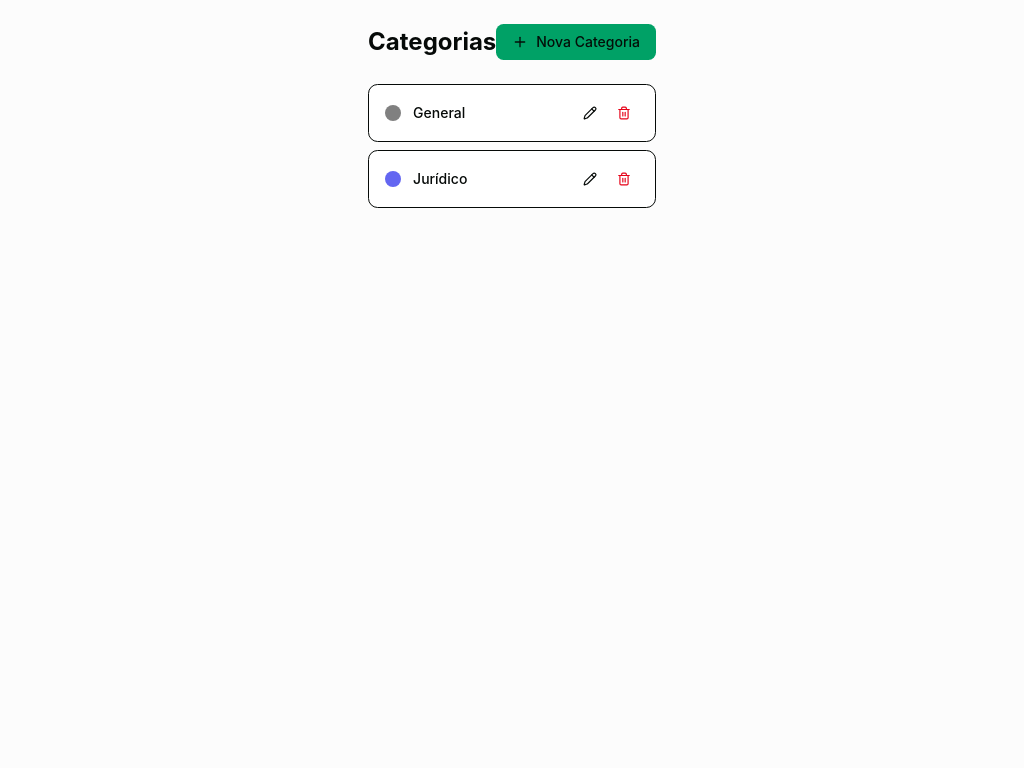
CategoriesPage › shows fallback translation when delete error has no detail
The image size is (1024, 768).
Click the button with class "lucide-trash-2" at (624, 113), box [609,97,639,129]
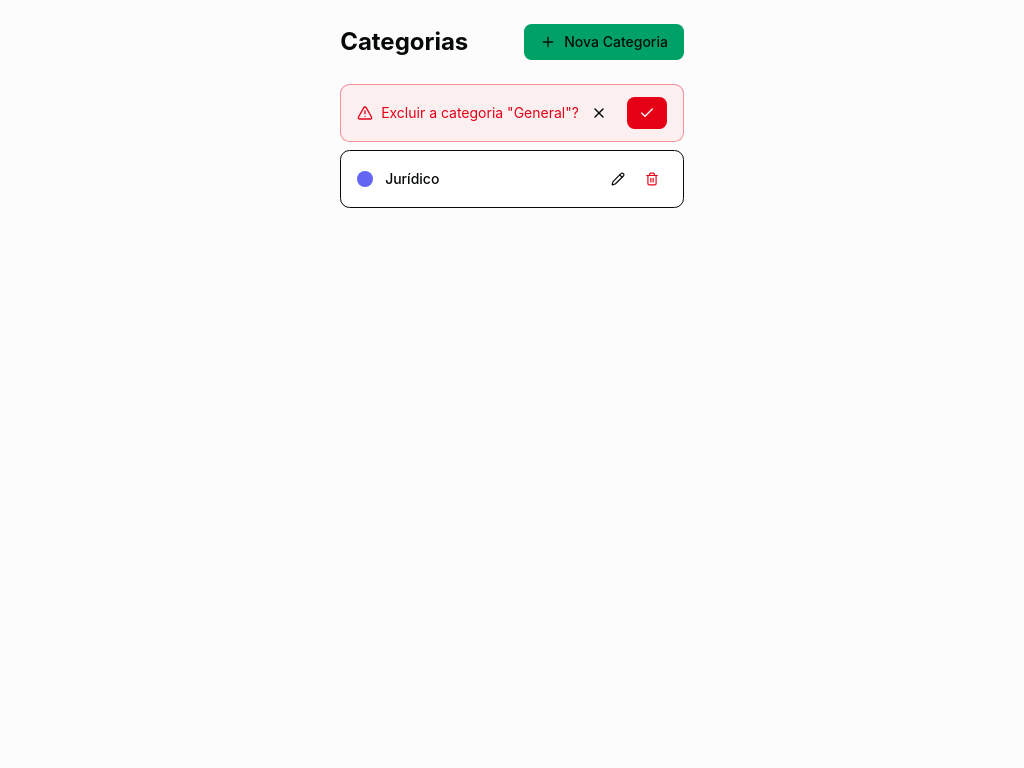
Click the button with class "lucide-trash-2" at (647, 113), box [627,97,667,129]
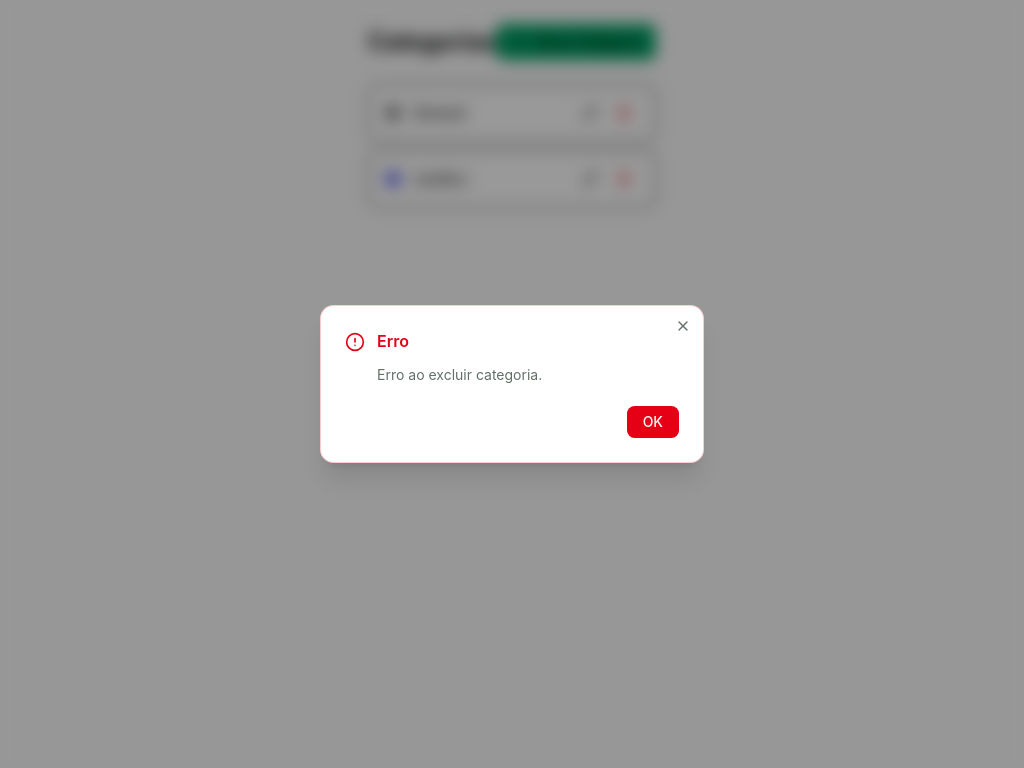
Expected: the text "Erro ao excluir categoria." is shown, [377,366,542,383]
